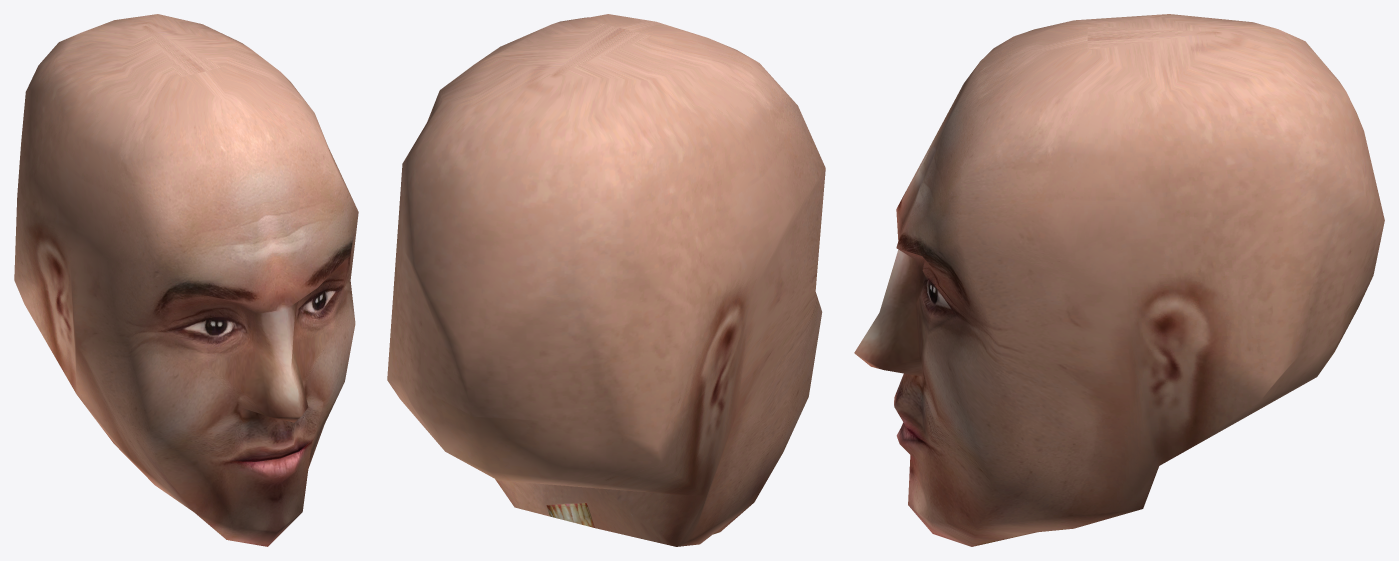
Rendered from b_n_nord_m_head_08.glb.
3 renders of one model, left to right at view 1: azimuth 30°, elevation 25°; view 2: azimuth 150°, elevation 25°; view 3: azimuth 270°, elevation 25°, orthographic. The views are drawn at different scales.
Visible parts, largest first — view 1: Tri B_N_Nord_M_Head_08; view 2: Tri B_N_Nord_M_Head_08; view 3: Tri B_N_Nord_M_Head_08.
Boxes of the visible parts, x1,y1,x2,y2 form: Tri B_N_Nord_M_Head_08: [14, 14, 358, 546]; Tri B_N_Nord_M_Head_08: [387, 14, 825, 546]; Tri B_N_Nord_M_Head_08: [854, 14, 1384, 546].
Bounding box in the file's own units: 0.0929 × 0.1602 × 0.1536.
Materials: 1 (1 with a texture image).
